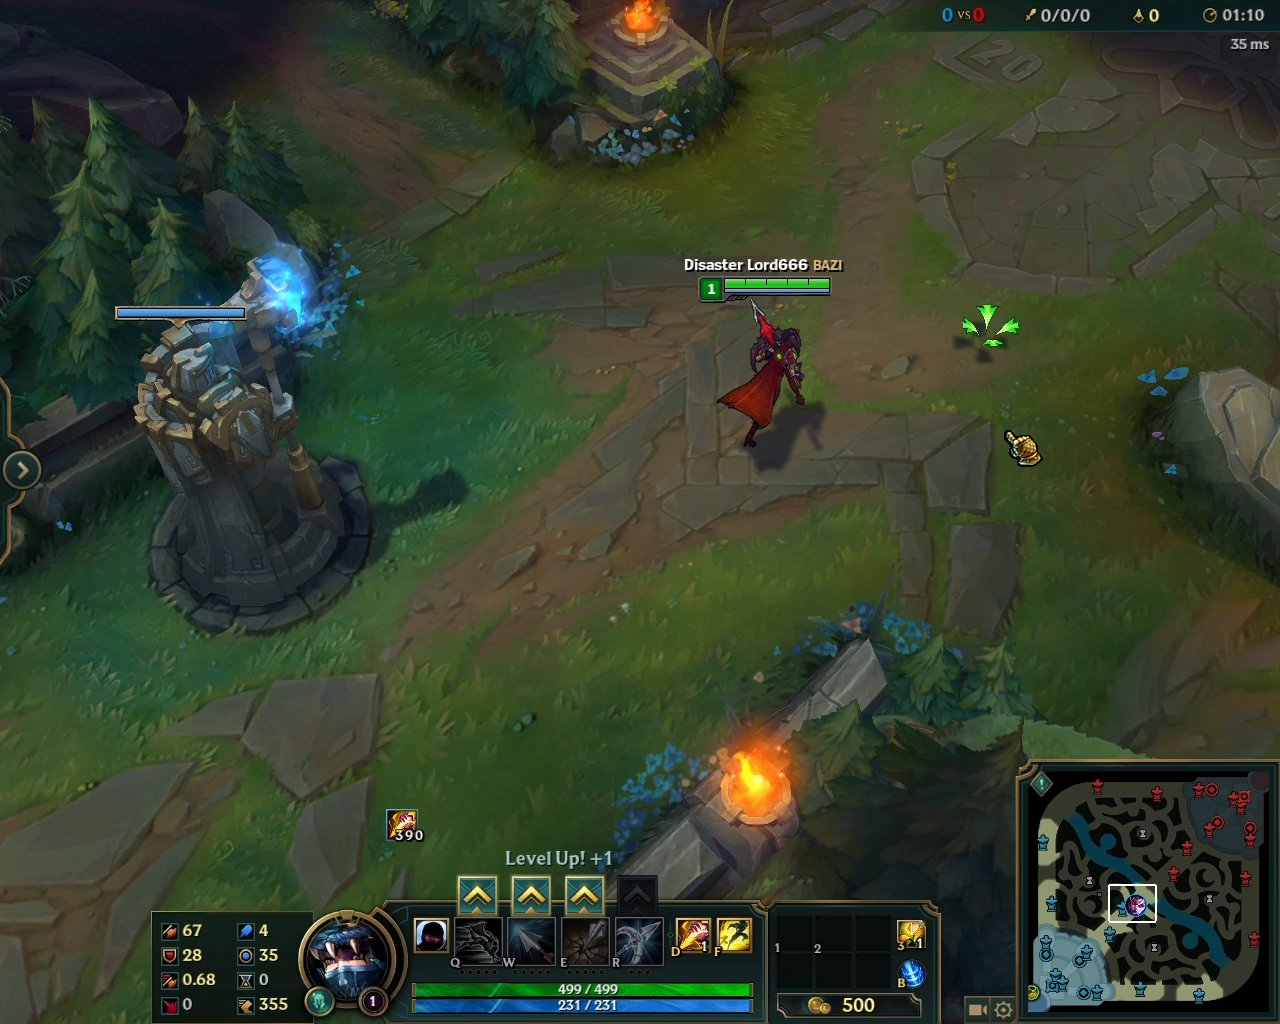Vayne: (709, 296, 809, 458)
